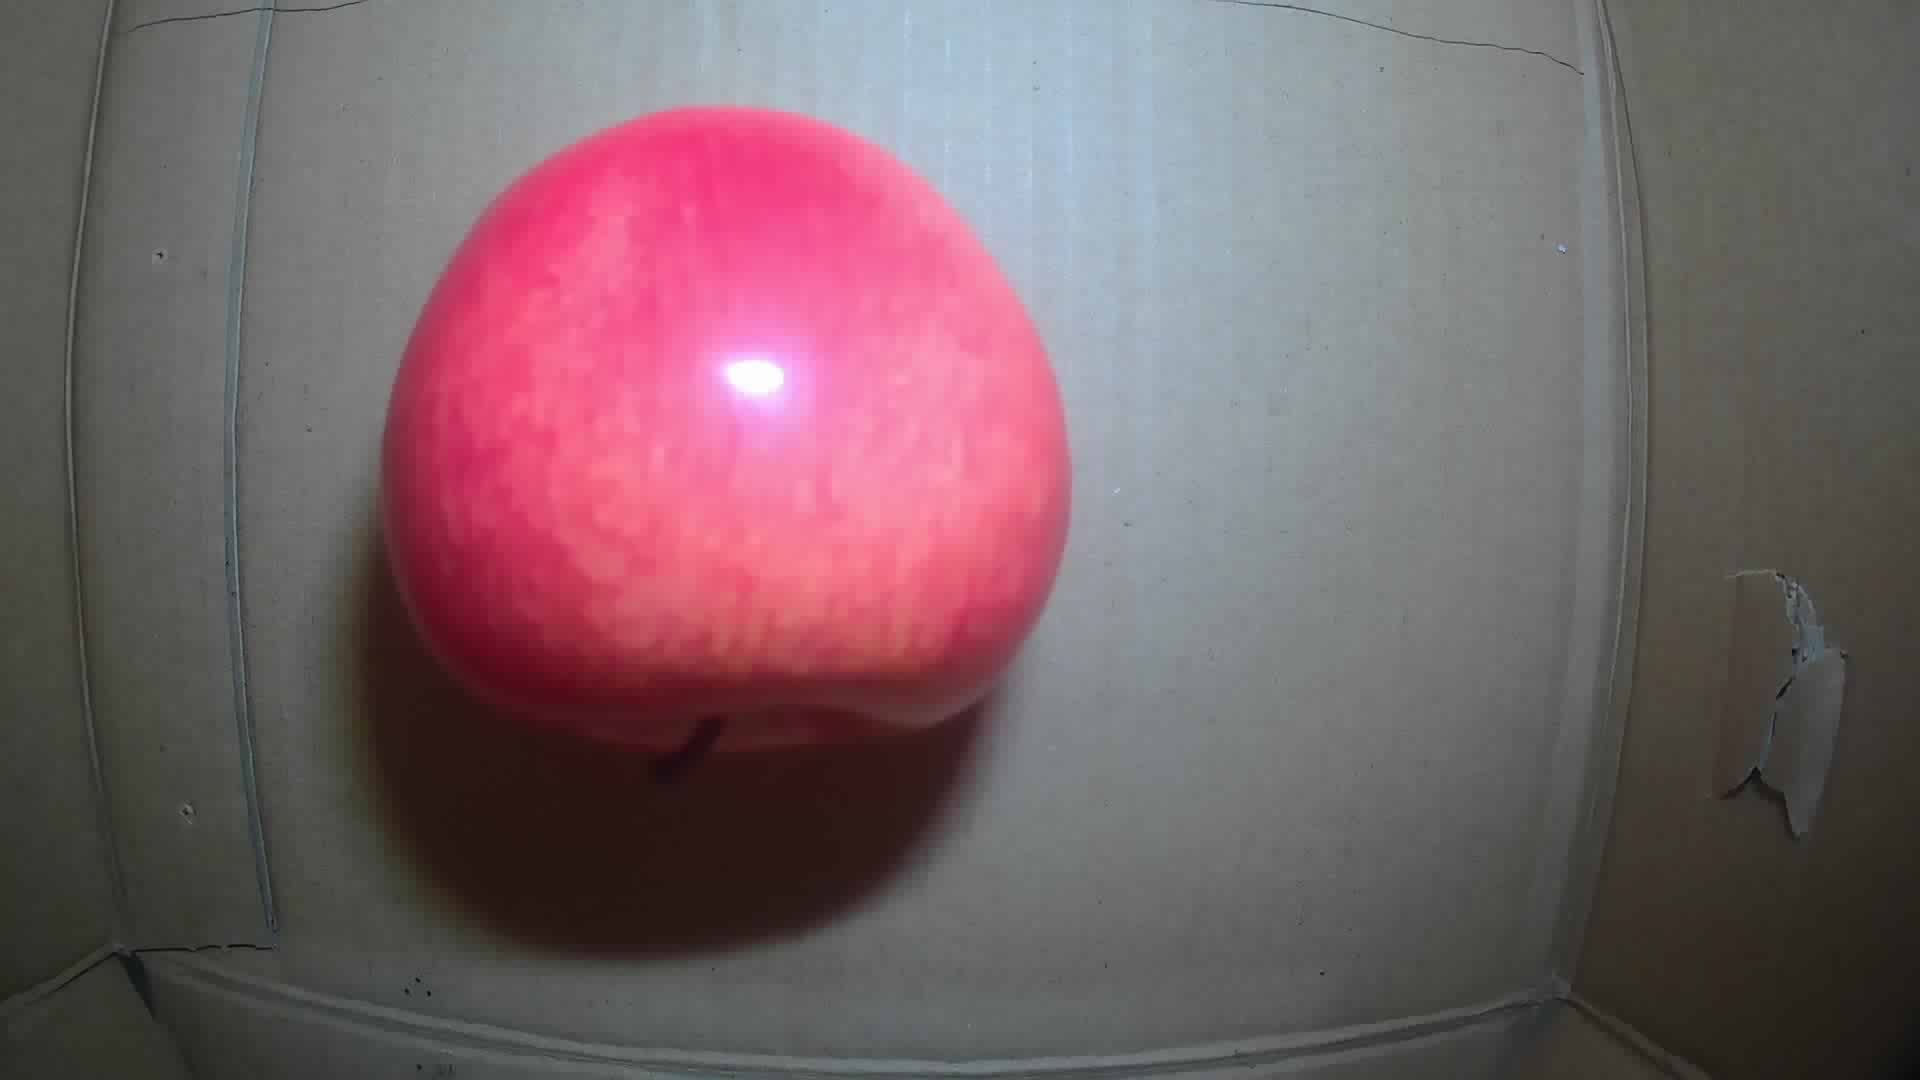apple: (376, 98, 1069, 753)
